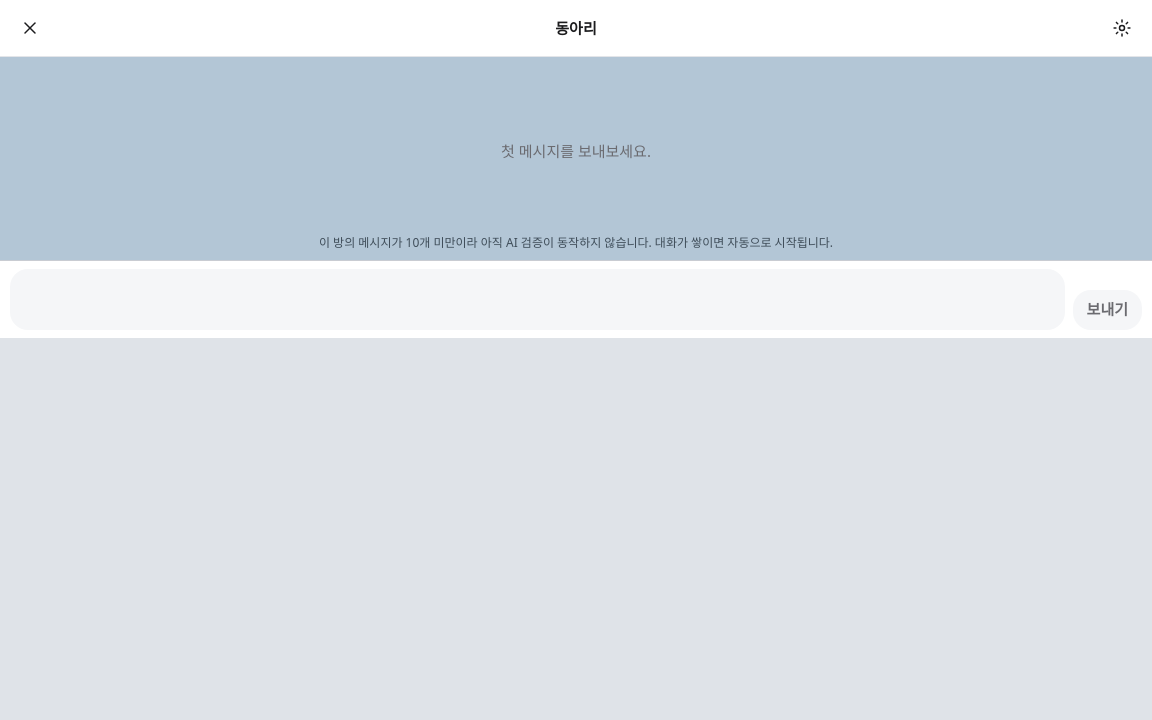
Test case: 방 설정 팝업 › 설정 버튼을 누르면 보이는 라벨이 붙은 진짜 체크박스가 나온다
Click the button with test id "chat-settings-open". click: (1122, 28)
box: [1100,6,1144,50]
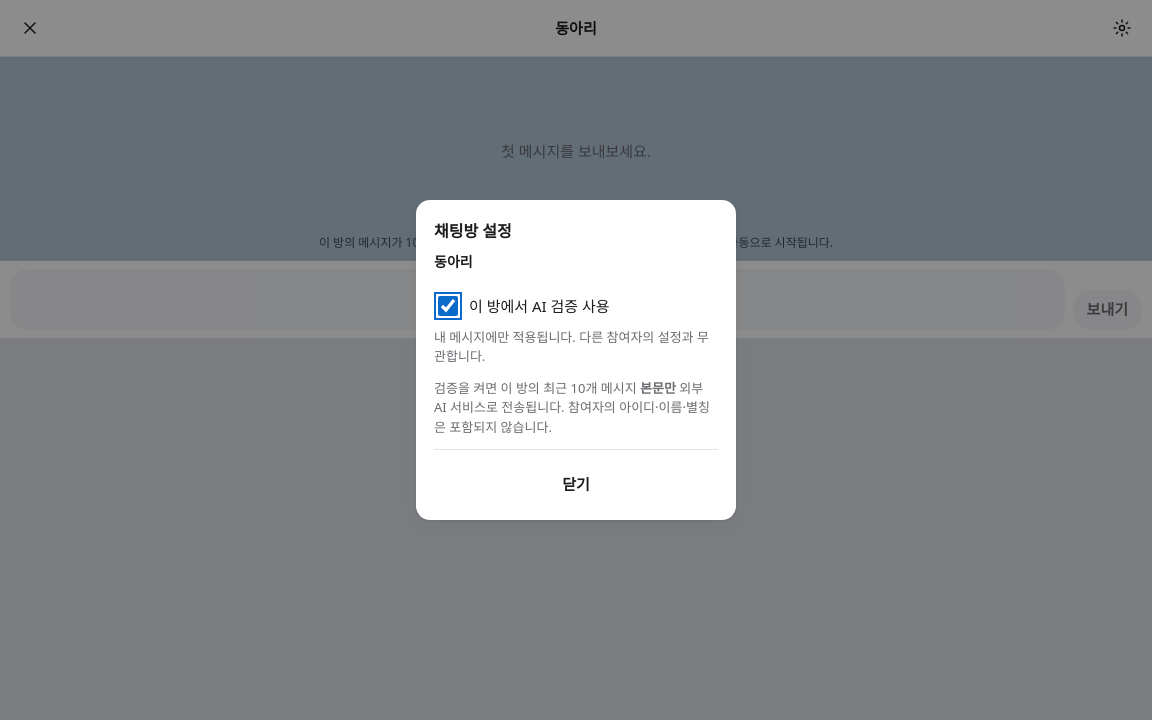
Expected: the checkbox with test id "room-settings-ai-toggle" is checked, [438,296,458,316]
Expected: the text with test id "room-settings-name" reads "동아리", [434,252,473,271]
